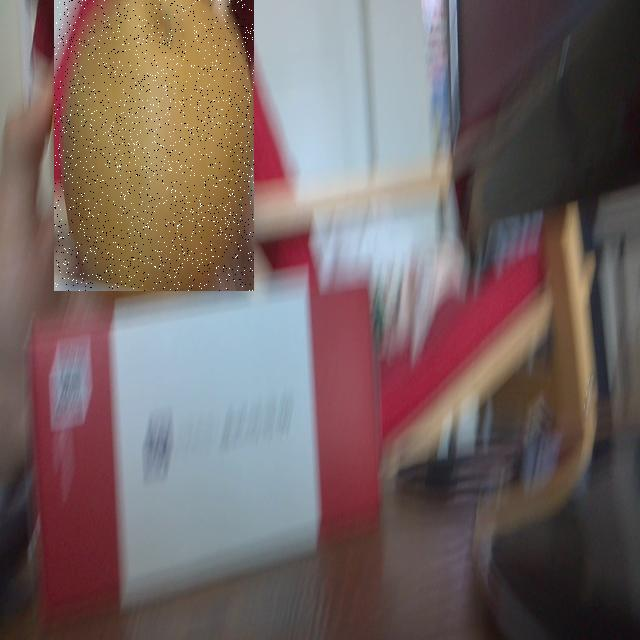pear: (54, 0, 254, 291)
